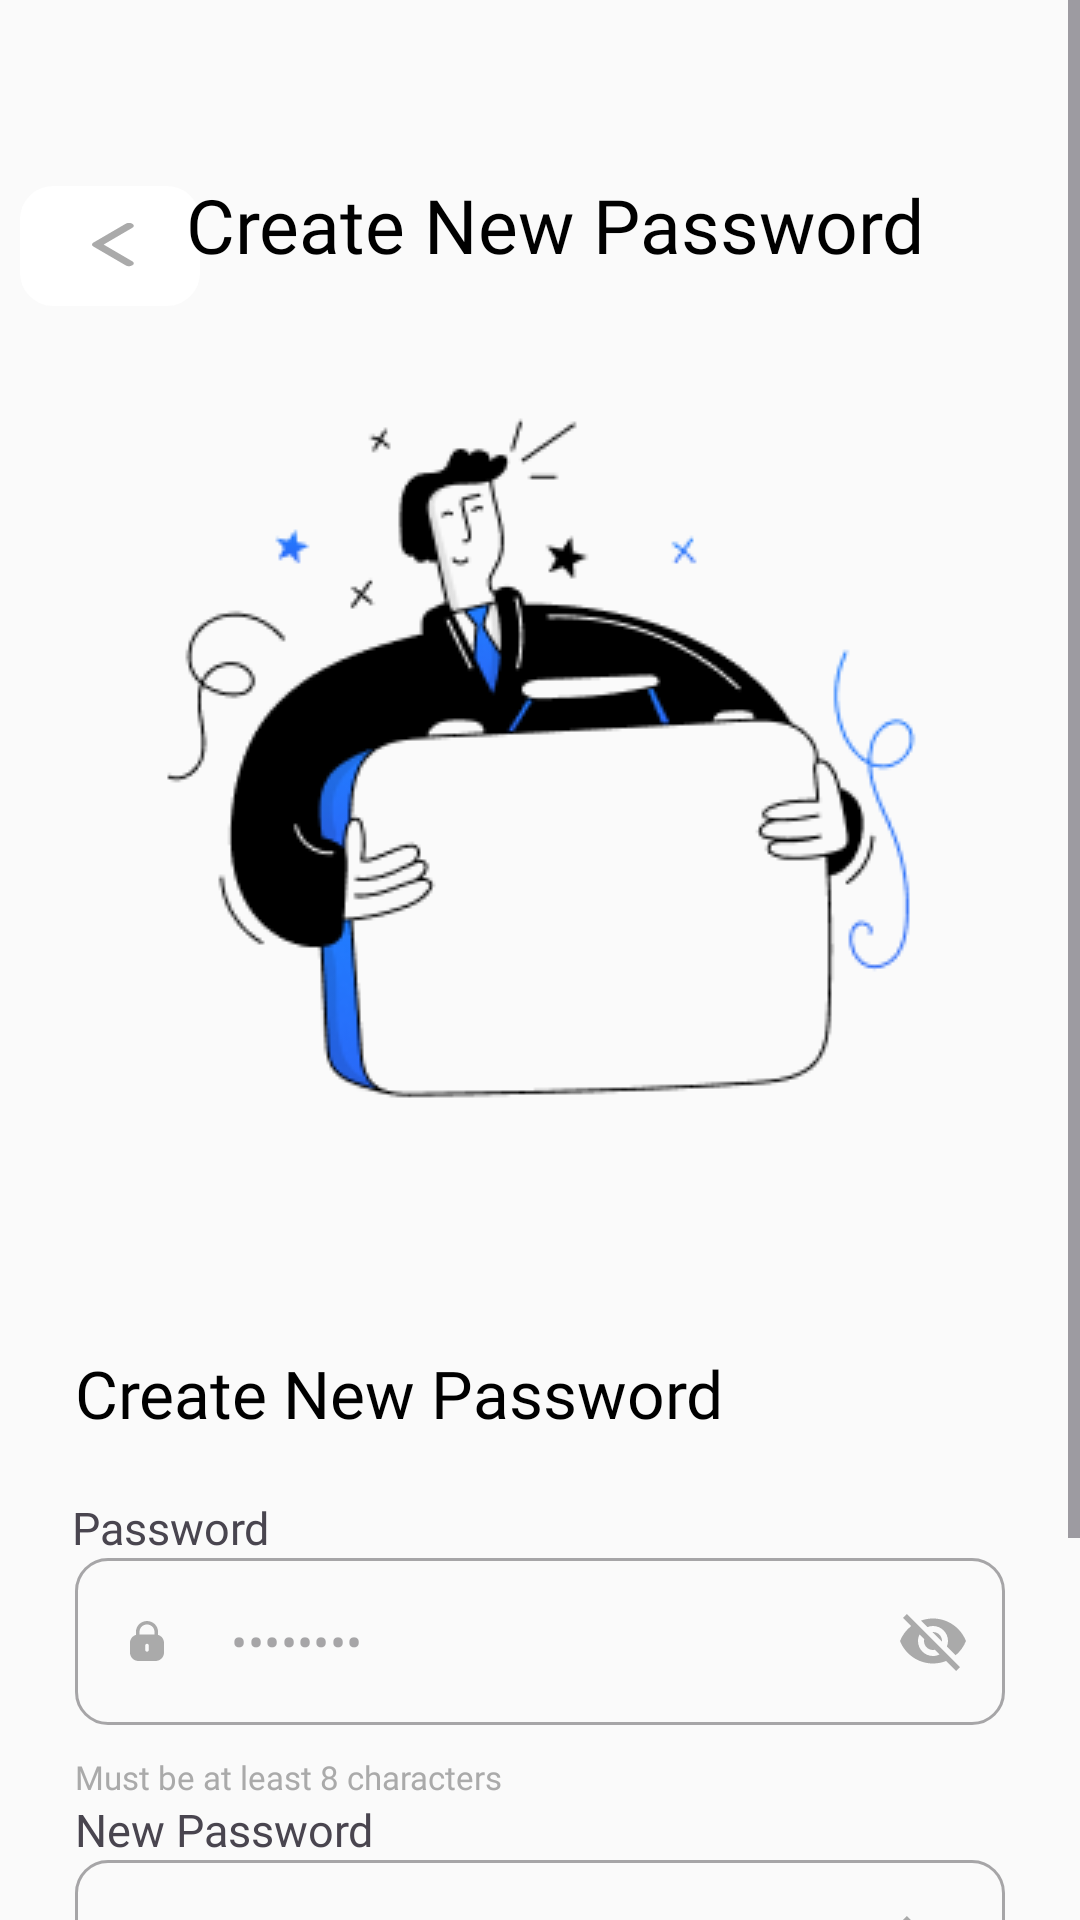

Where icons sit on this 1080 x 1920 app screen, as (x1, y1, x2, y2):
back: (92, 223, 134, 266)
